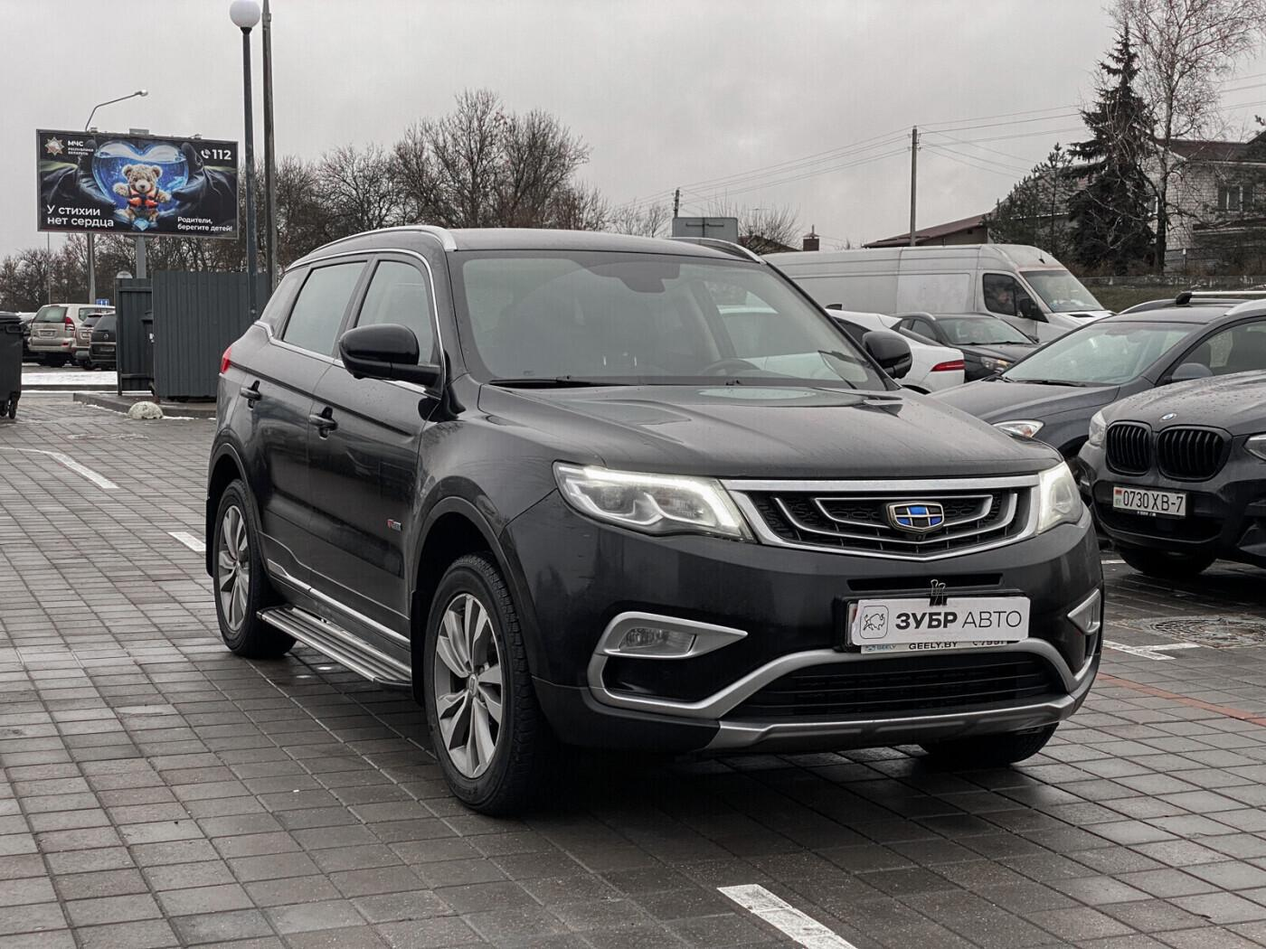Atlas_2016-2023: (207, 223, 1111, 828)
